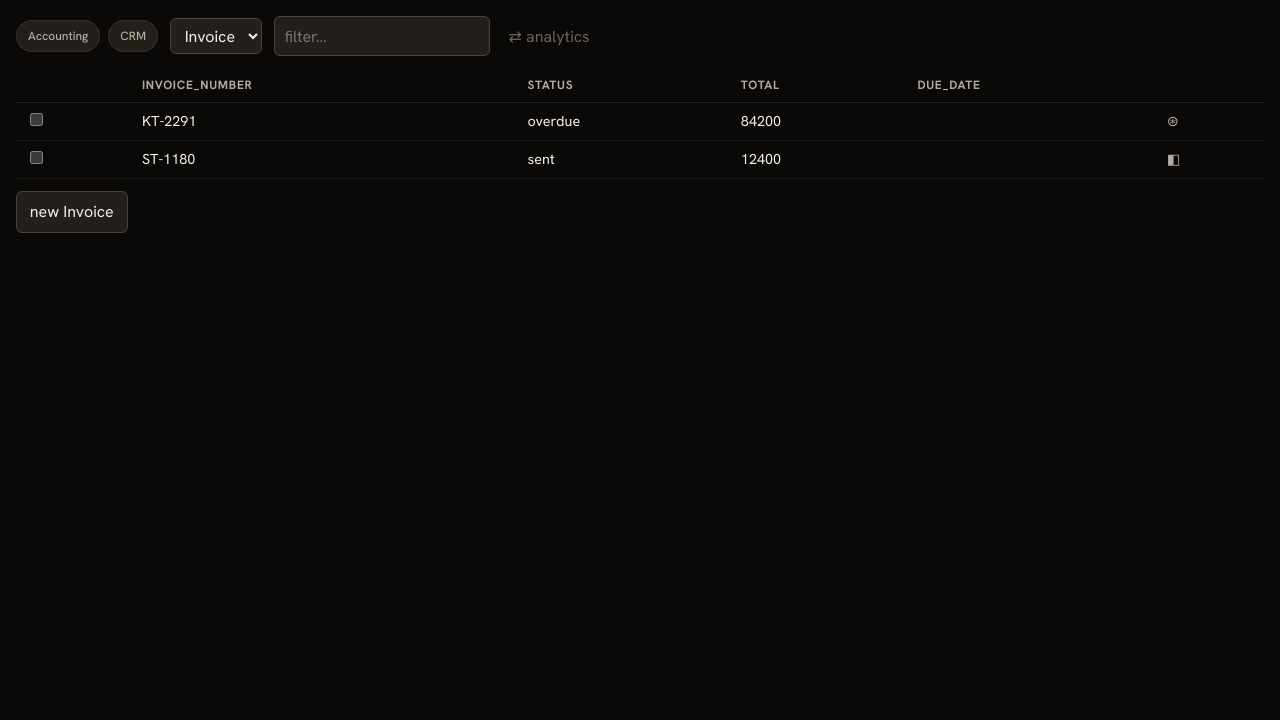
a CAS conflict is said plainly › conflict → the honest sentence, no silent retry
Check: the row "KT-2291 overdue 84200 ⊛" is shown, box [16,102,1264,140]
Click the text "KT-2291" at (325, 121), box [132,102,518,140]
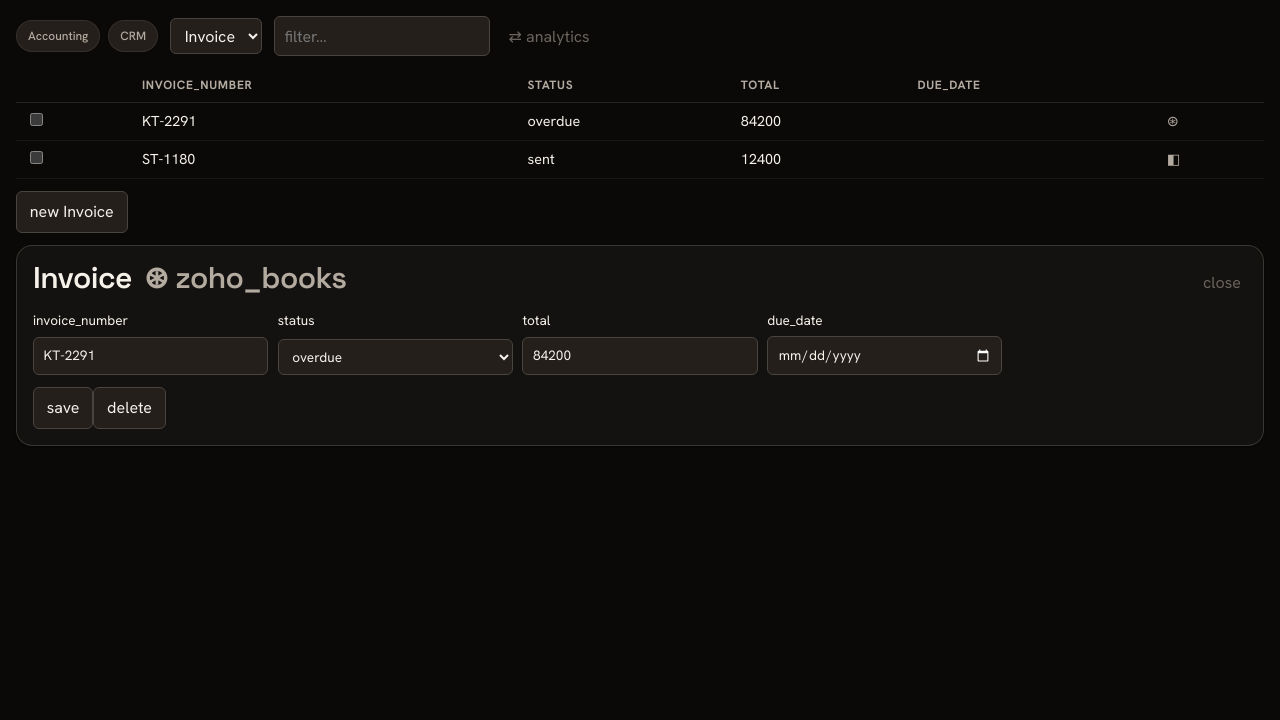
Click the button "save" at (63, 408), box [33,387,93,429]
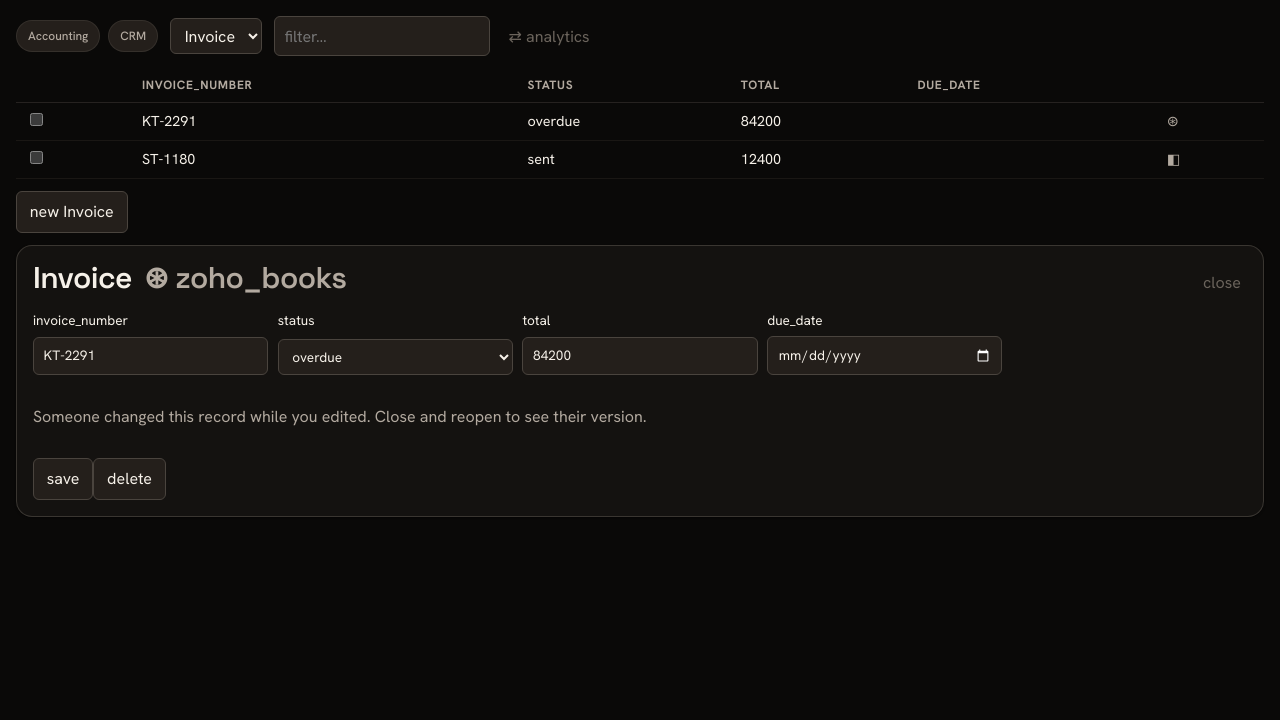
Check: the text "Someone changed this record while you edited" is shown, box [33,406,647,427]
